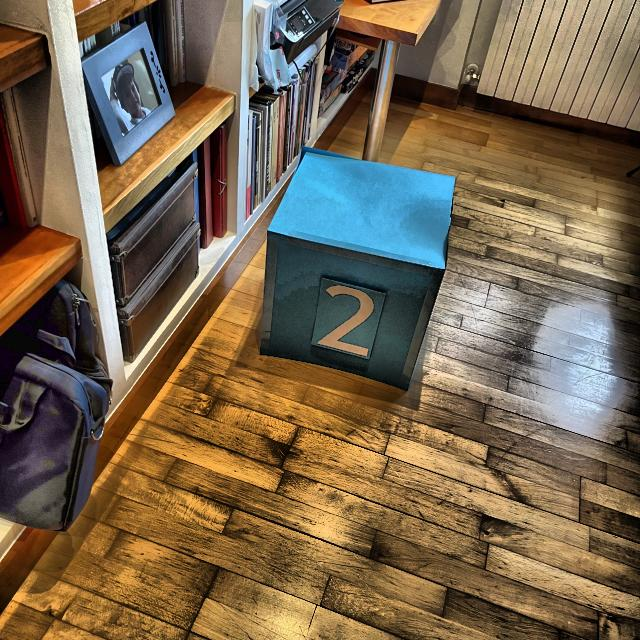blue box: (253, 148, 459, 396)
two: (315, 279, 375, 359)
